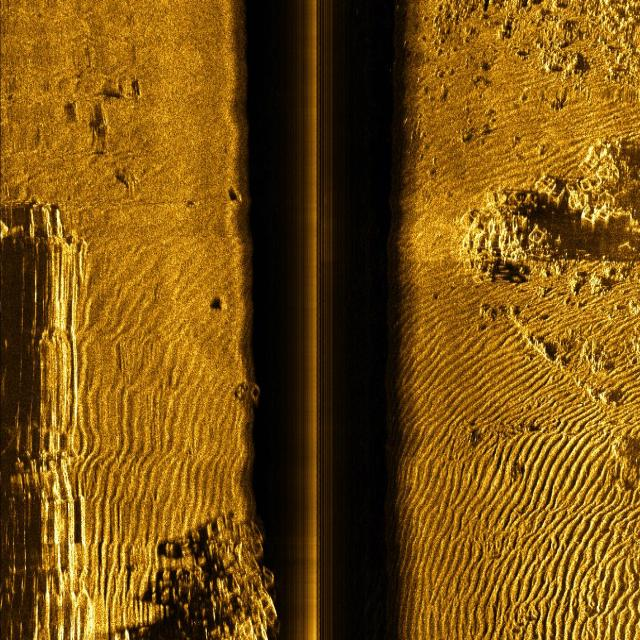artificial reef: (460, 126, 635, 277), (172, 488, 270, 640), (235, 372, 270, 411)
